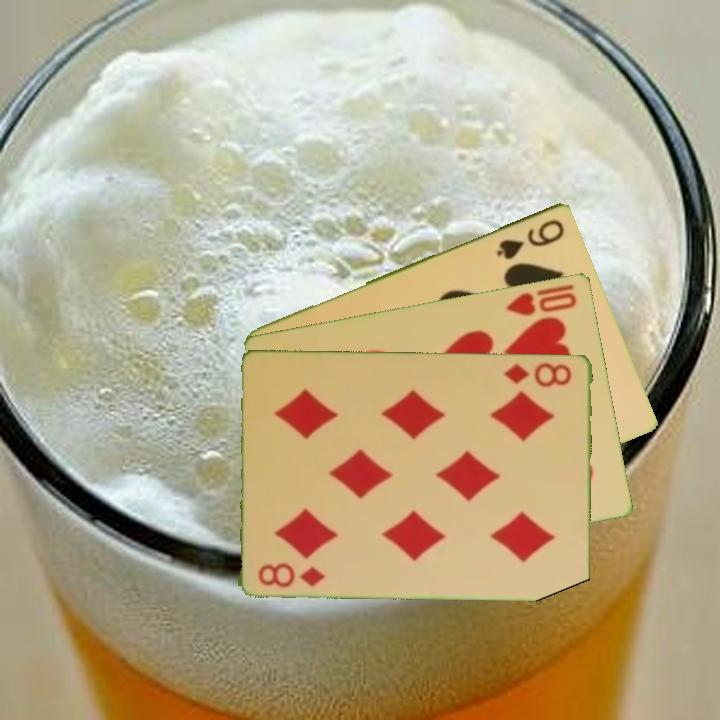10h: (502, 280, 580, 318)
8d: (500, 358, 575, 389), (255, 559, 328, 590)
9s: (493, 215, 568, 262)
